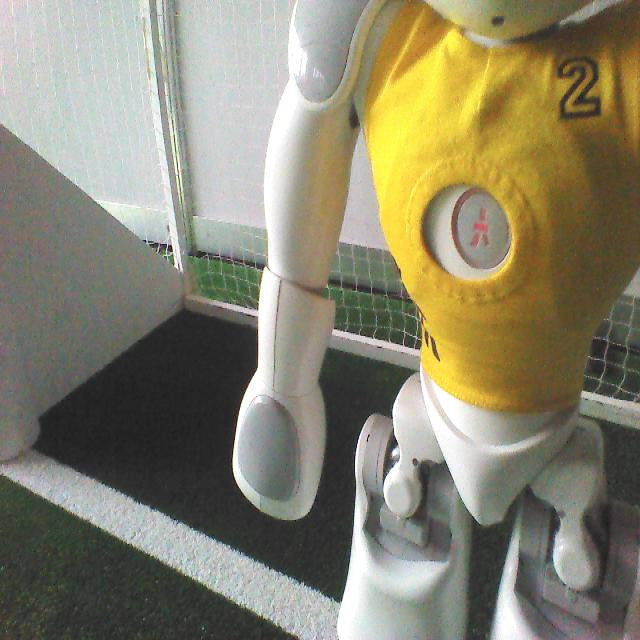goalpost: (0, 285, 42, 464)
